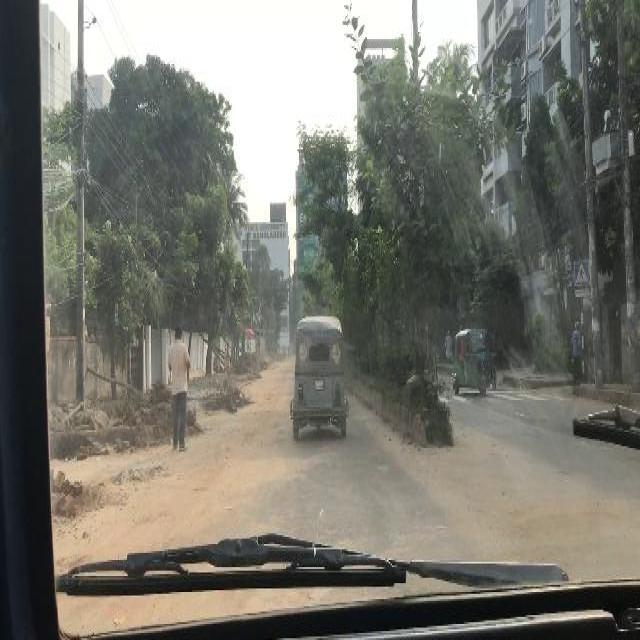three wheelers -CNG-: (290, 318, 348, 437), (453, 327, 487, 395)
